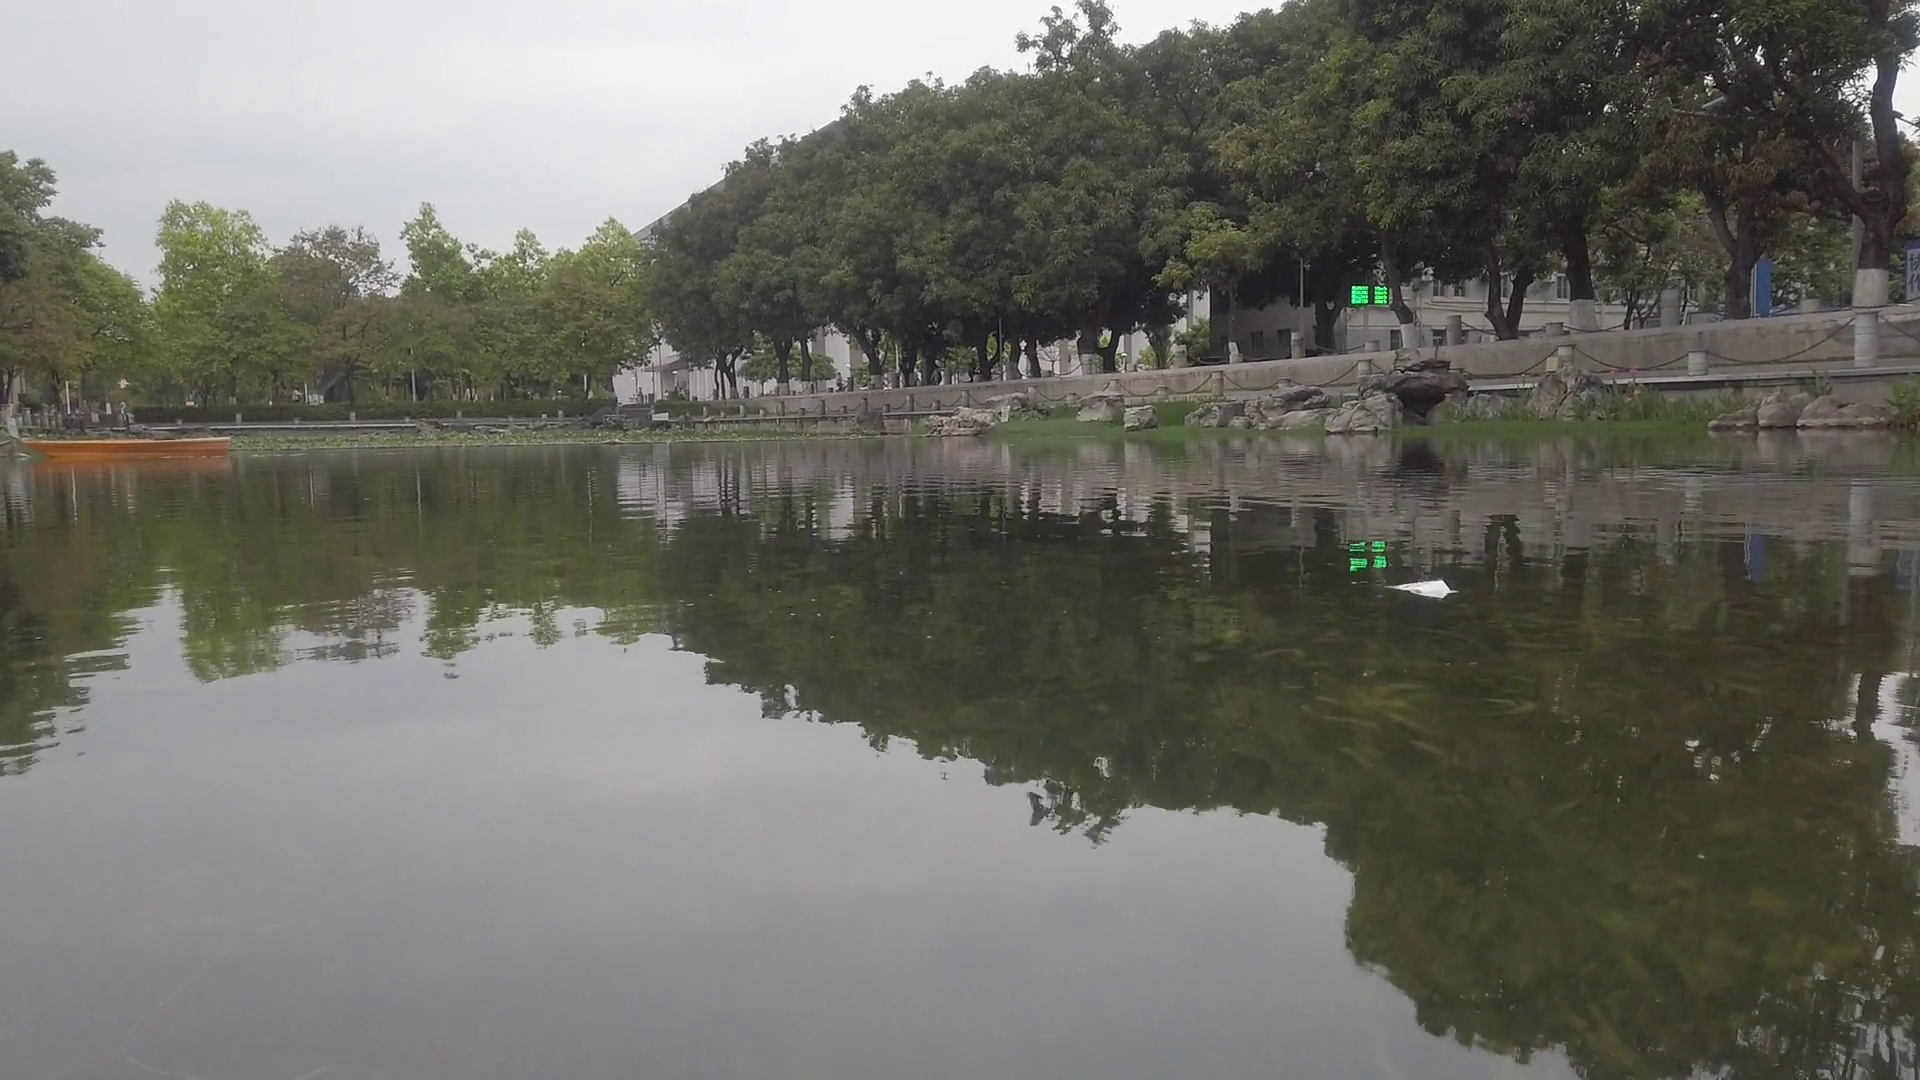paper: (1395, 579, 1461, 603)
